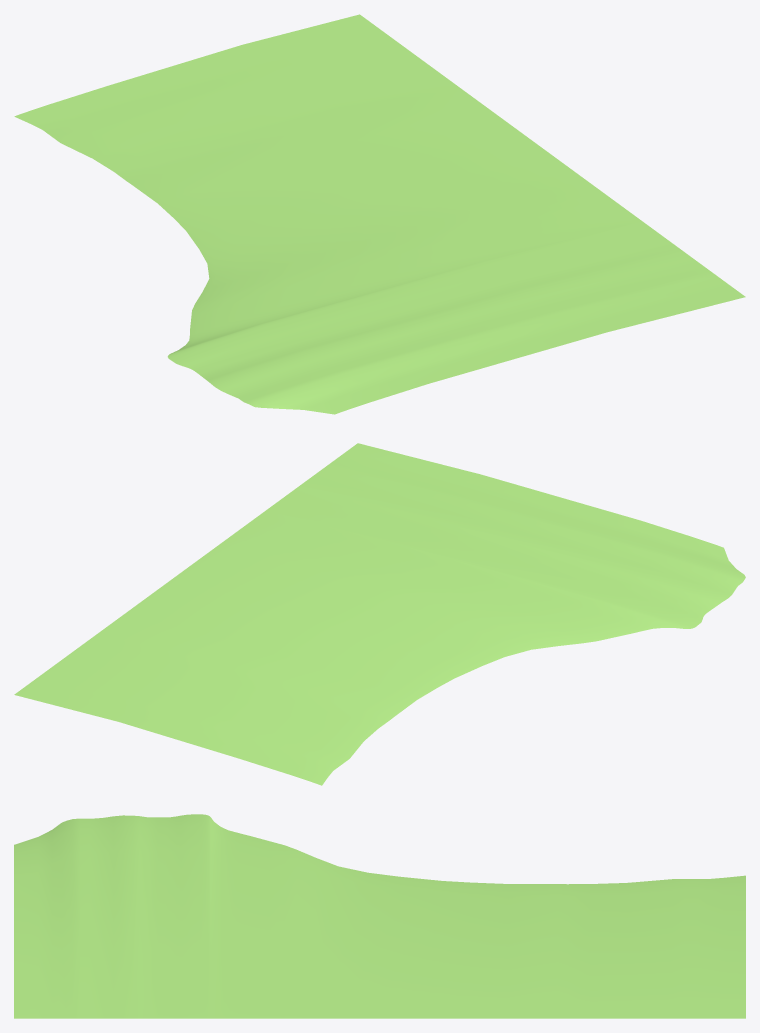
File: Right_bank.FBX
The picture shows the model from 3 angles, top to bottom: view 1: azimuth 30°, elevation 25°; view 2: azimuth 150°, elevation 25°; view 3: azimuth 270°, elevation 25°; orthographic projection. The views are drawn at different scales.
Parts seen in each view (by area): view 1: Right_bank; view 2: Right_bank; view 3: Right_bank.
Boxes of the visible parts, x1=… form: Right_bank: x1=14, y1=14, x2=745, y2=414; Right_bank: x1=14, y1=443, x2=745, y2=785; Right_bank: x1=14, y1=814, x2=745, y2=1018.
Size of the model in its own units: 390 by 545 by 13.98.
